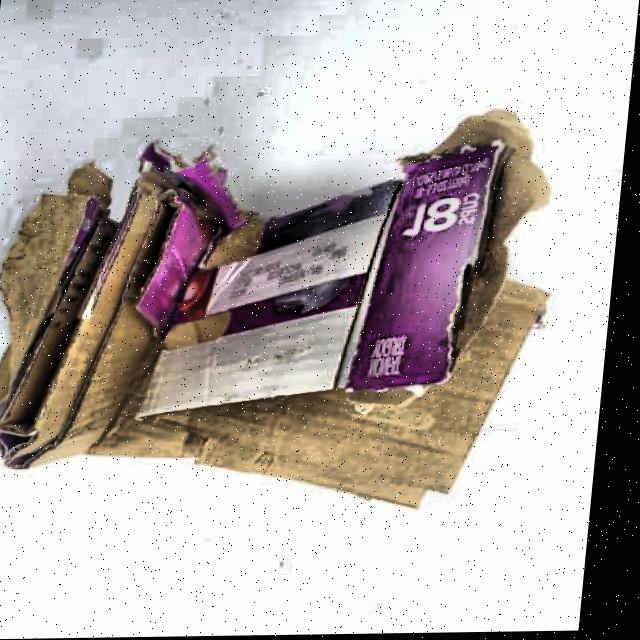cardboard: (0, 126, 568, 517)
